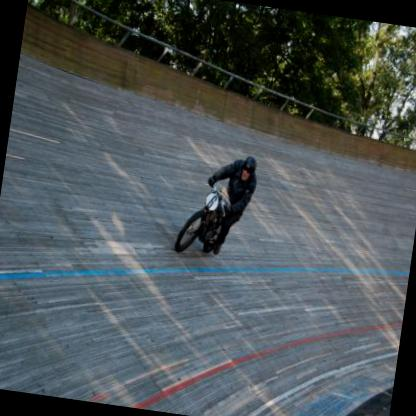motorcycle: (174, 180, 240, 259)
